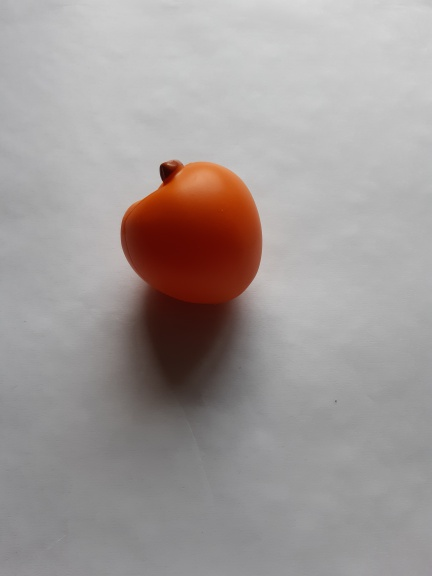apricot: (109, 151, 277, 317)
